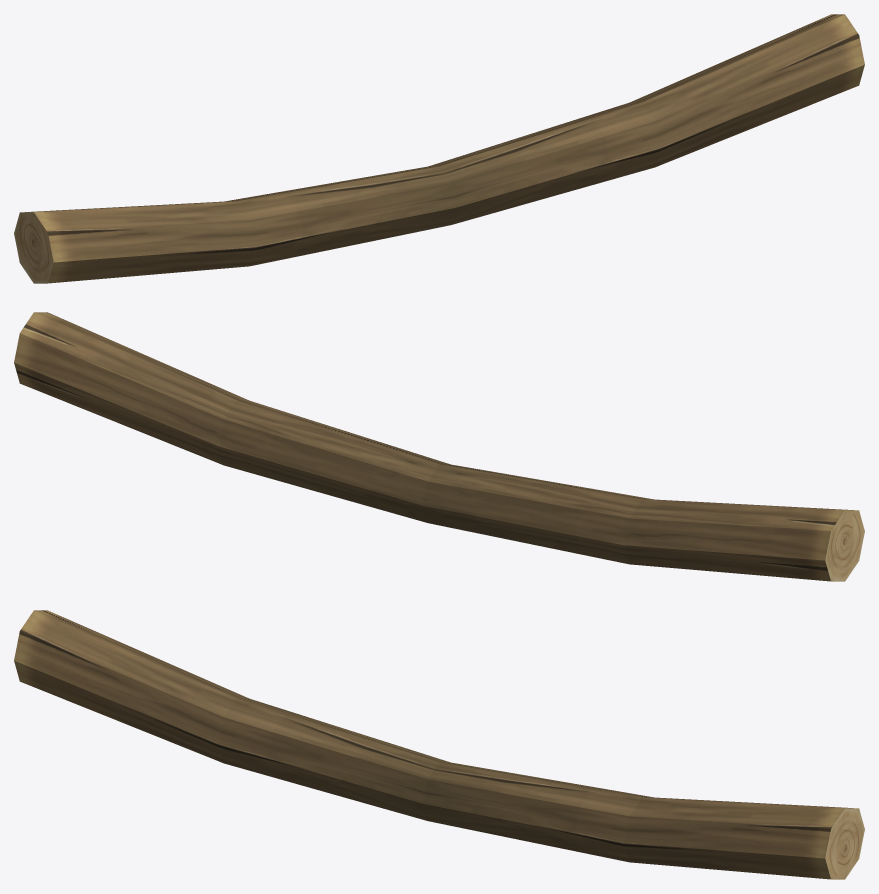
3 views of the same model, one above another, from view 1: azimuth 30°, elevation 25°; view 2: azimuth 150°, elevation 25°; view 3: azimuth 330°, elevation 25° (orthographic).
Visible parts, largest first — view 1: part_12b:Mesh; view 2: part_12b:Mesh; view 3: part_12b:Mesh.
Part boxes in pixels (box(x1,y1,x2,y2)): part_12b:Mesh: box(14, 14, 864, 283); part_12b:Mesh: box(14, 312, 864, 581); part_12b:Mesh: box(14, 610, 864, 879).
Size of the model in its own units: 6.75 by 0.8911 by 0.5734.
